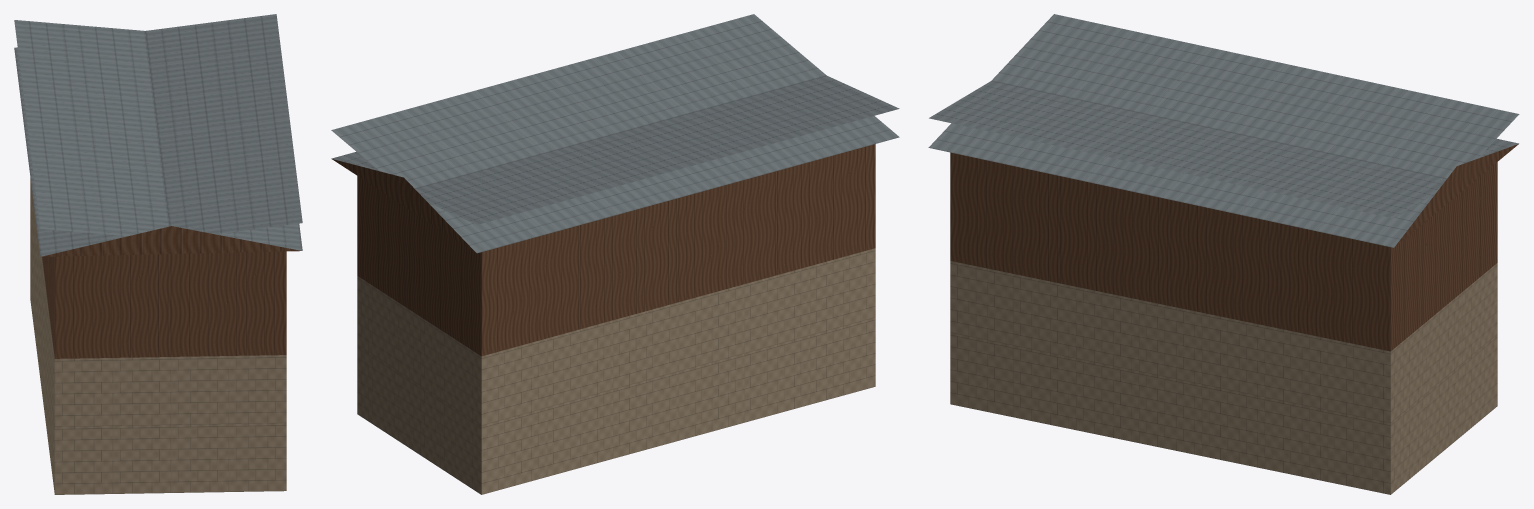
Rendered from bld_c2_19_478.gltf.
3 views of the same model, side by side, from view 1: azimuth 30°, elevation 25°; view 2: azimuth 150°, elevation 25°; view 3: azimuth 270°, elevation 25° (orthographic). The views are drawn at different scales.
Visible parts, largest first — view 1: bld_c2_19_478; view 2: bld_c2_19_478; view 3: bld_c2_19_478.
Boxes of the visible parts, bbox=[...] form: bld_c2_19_478: bbox=[14, 14, 302, 494]; bld_c2_19_478: bbox=[331, 14, 899, 494]; bld_c2_19_478: bbox=[928, 14, 1519, 494].
Bounding box in the file's own units: 14.87 × 9.8 × 18.17.
4 materials, 4 textured.
